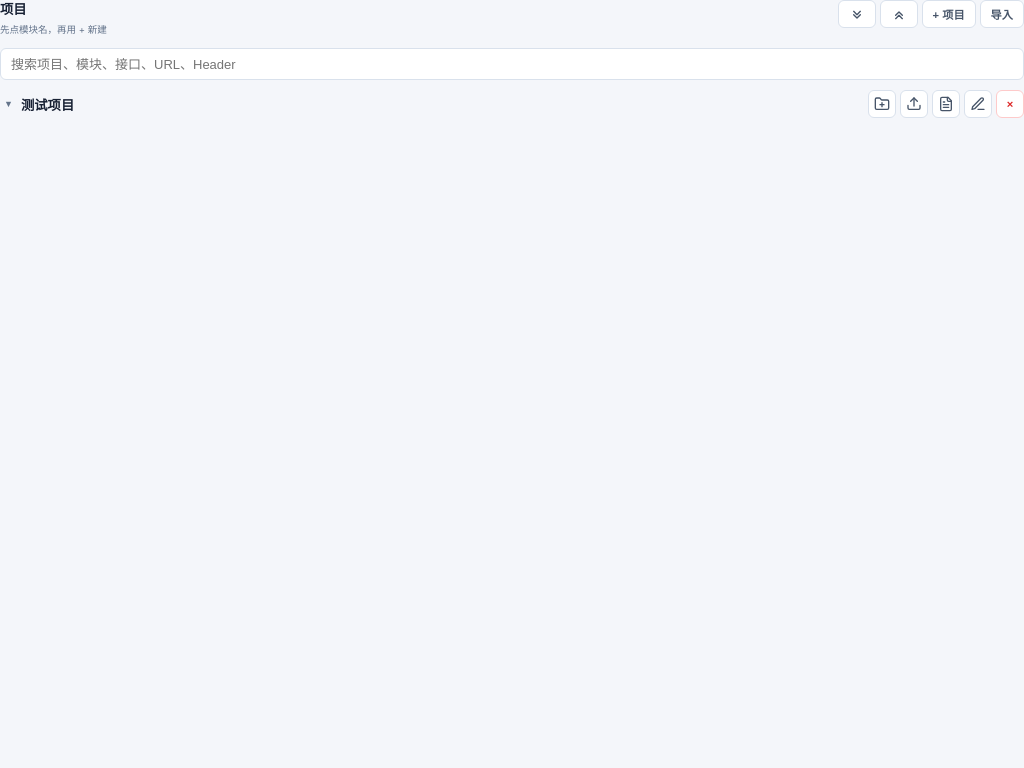
Test case: ProjectTreePanel › 按 Escape 关闭删除项目确认弹窗且不删除项目
Expected: the button "测试项目" is shown, left=17, top=93, right=868, bottom=116
Click the button named "删除项目". click: click(1010, 104)
box: left=996, top=90, right=1023, bottom=118
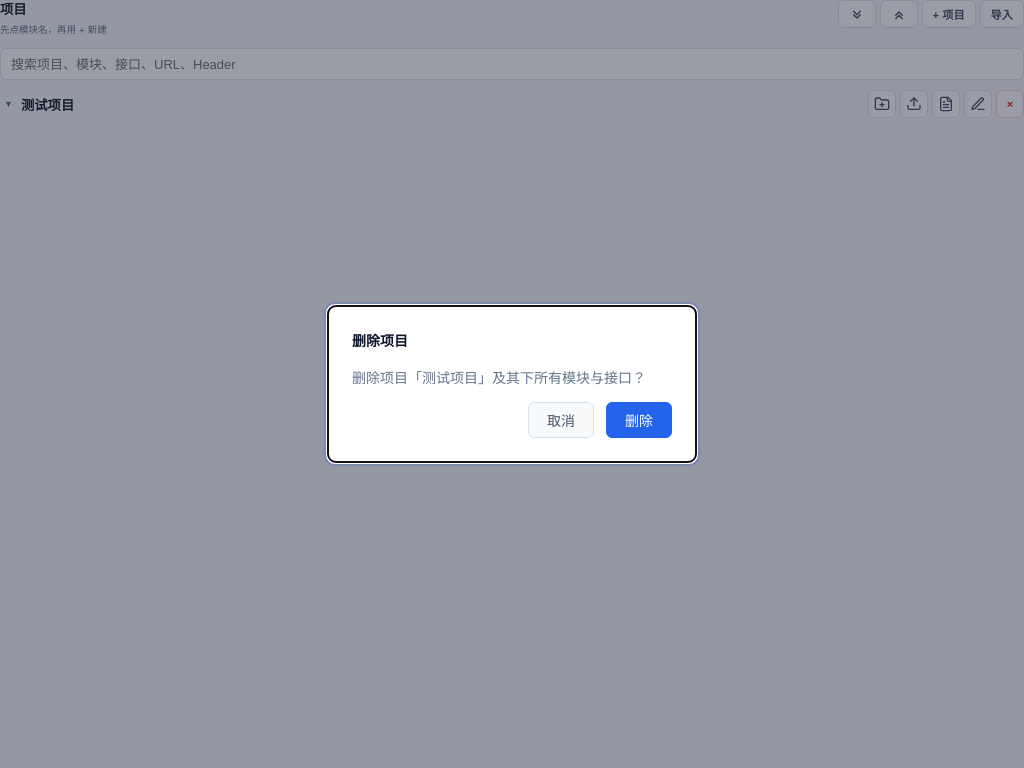
Expected: the dialog "删除项目" is shown, left=327, top=305, right=697, bottom=463
Press Escape
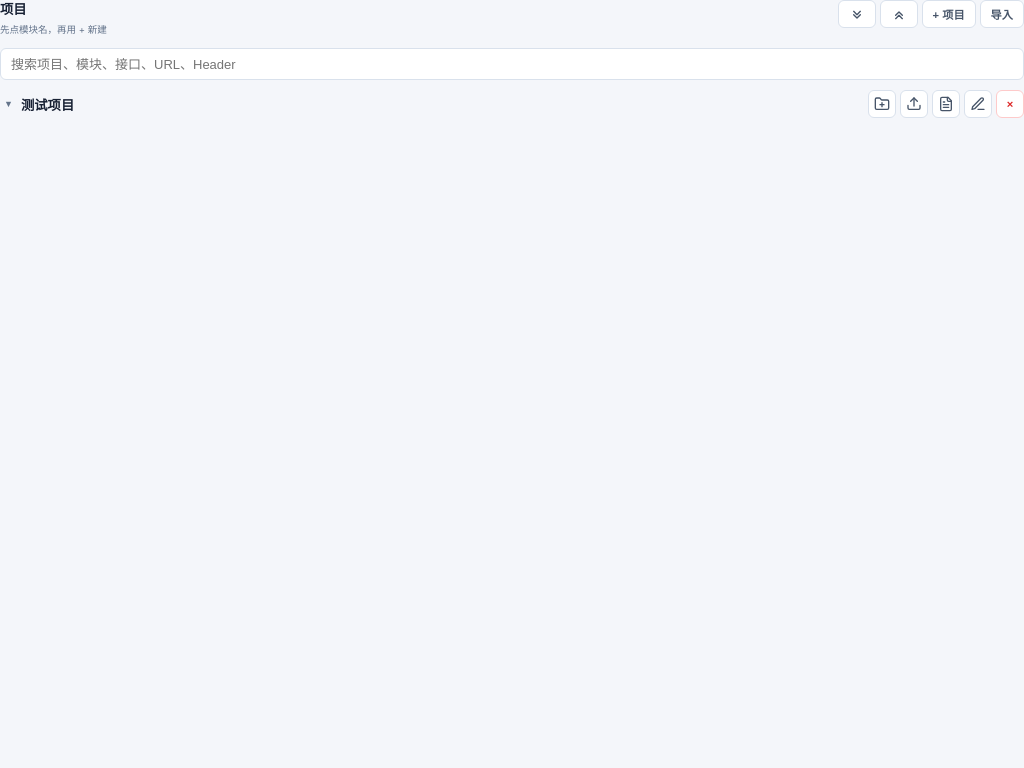
Expected: the heading "删除项目" is gone
